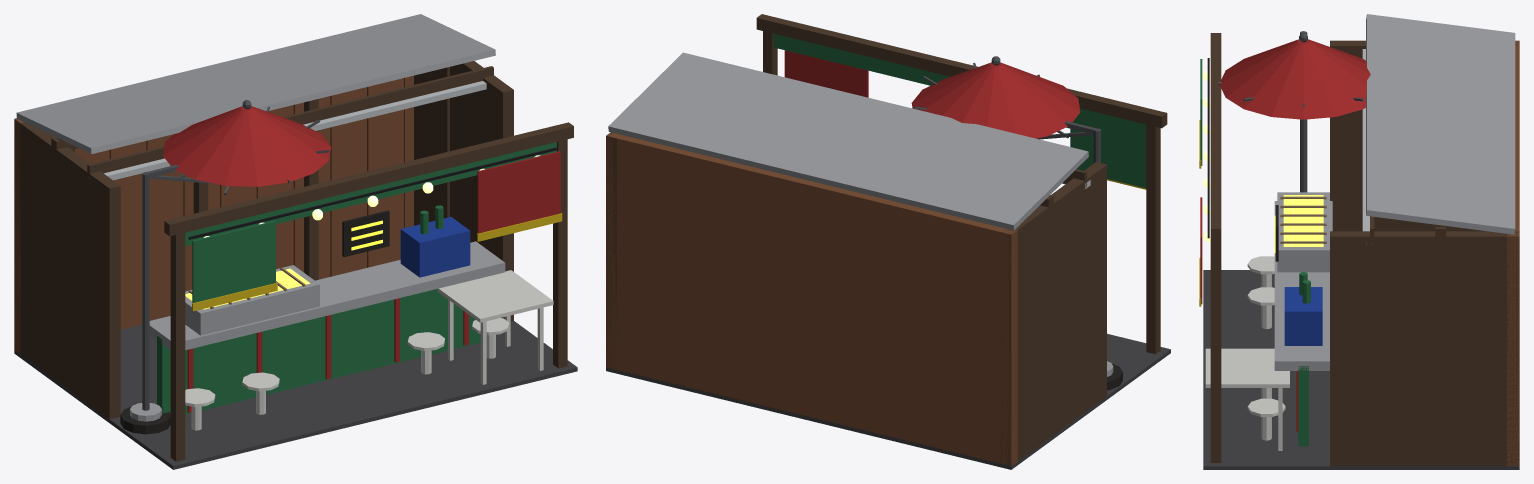
File: SYU_SuyaSpot_ML_v001.glb
3 views of the same model, side by side, from view 1: azimuth 30°, elevation 25°; view 2: azimuth 150°, elevation 25°; view 3: azimuth 270°, elevation 25° (orthographic).
Parts seen in each view (by area): view 1: SYU_SuyaSpot_ML_v001; view 2: SYU_SuyaSpot_ML_v001; view 3: SYU_SuyaSpot_ML_v001.
Part boxes in pixels (<box>): SYU_SuyaSpot_ML_v001: <box>14,14,577,469</box>; SYU_SuyaSpot_ML_v001: <box>606,14,1170,469</box>; SYU_SuyaSpot_ML_v001: <box>1199,14,1519,469</box>.
Bounding box in the file's own units: 4.4 × 3.14 × 3.04.
